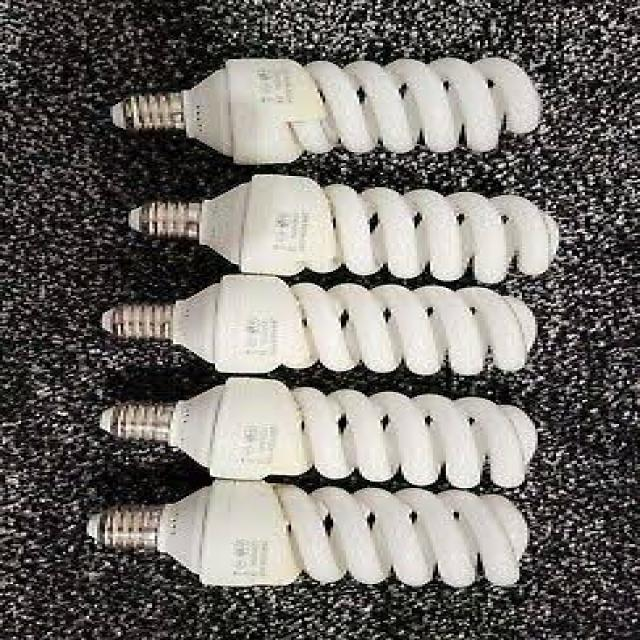bulb: (92, 46, 561, 172)
